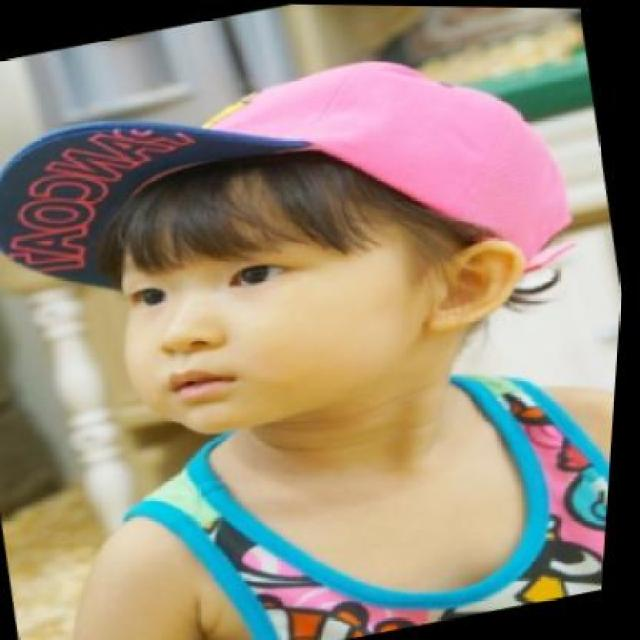hat: (0, 1, 602, 382)
